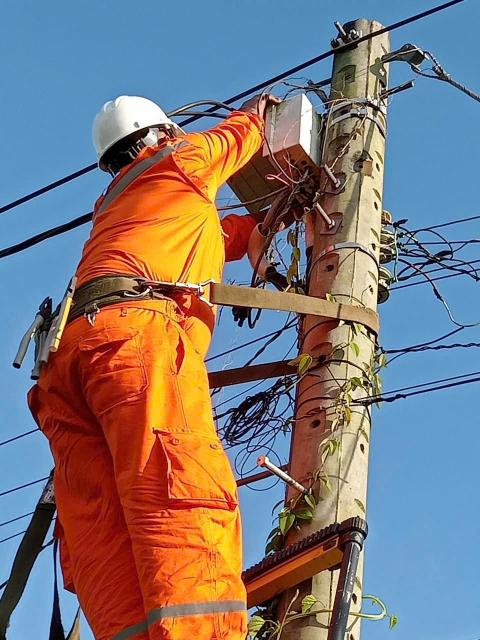gloves: (227, 80, 288, 124)
harness: (40, 270, 311, 333)
helmet: (72, 89, 190, 171)
